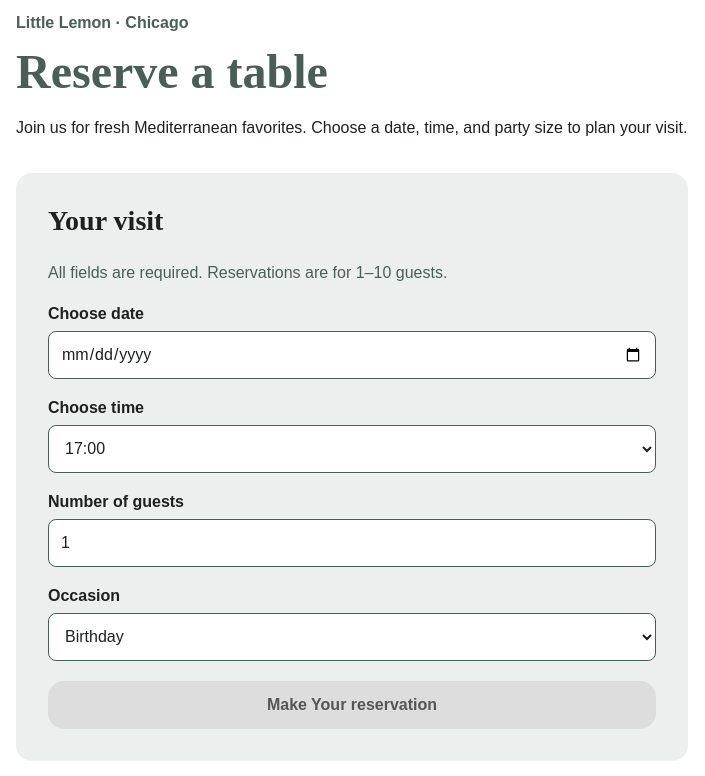
Scenario: keeps the form open when the submission API is rejected
Type "2026-12-12" into the date field labelled "Choose date" at (352, 355), box [48, 331, 656, 379]
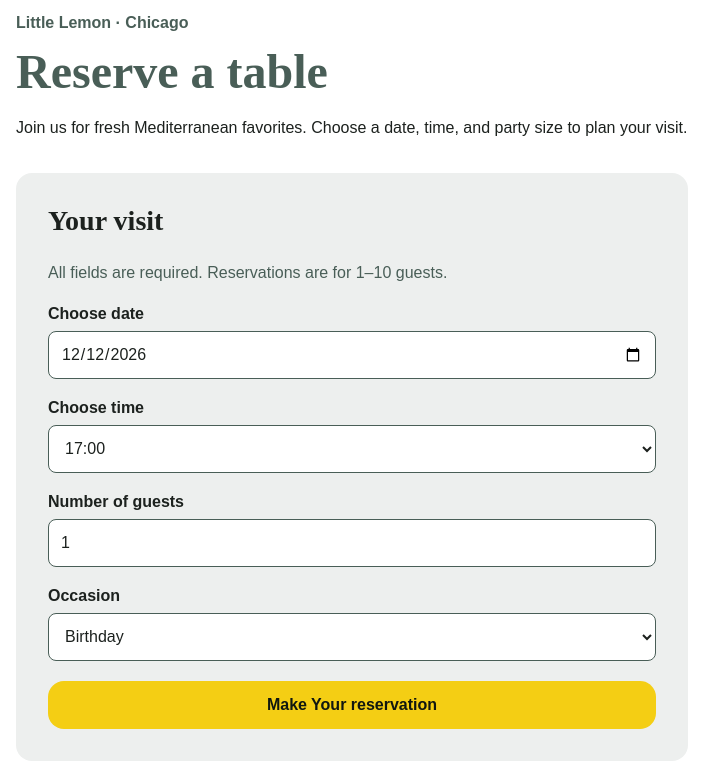
Click the button "Make Your reservation" at (352, 705), box [48, 681, 656, 729]
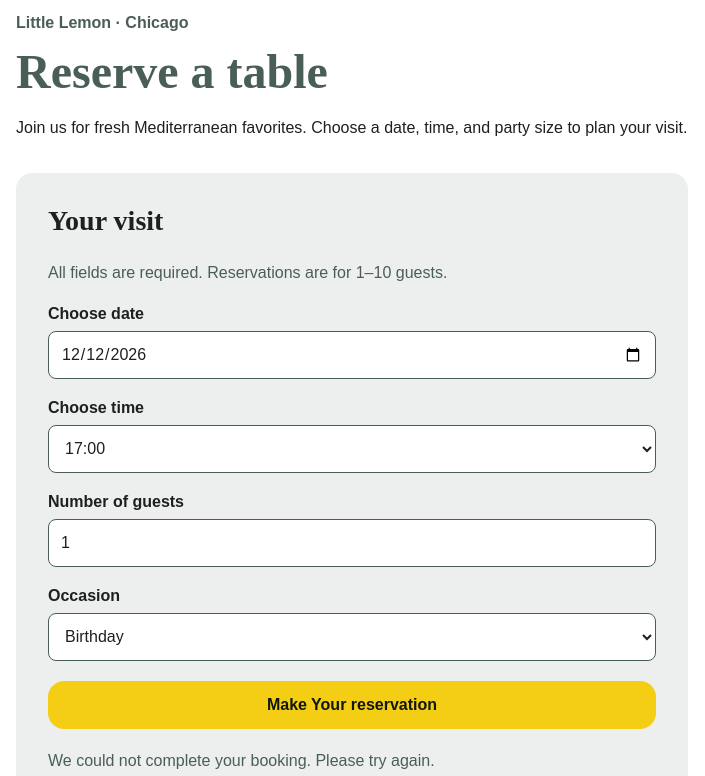
Check: the message shows "Please try again", box [48, 752, 435, 769]
